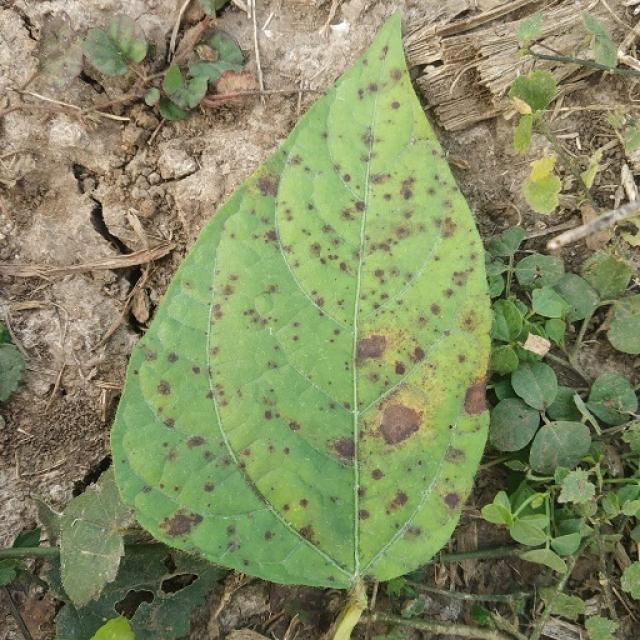Anthracnose: (308, 157, 363, 242), (192, 342, 237, 412), (376, 402, 423, 448), (353, 322, 392, 373), (207, 277, 239, 323), (424, 211, 466, 246), (274, 411, 317, 438), (159, 510, 199, 539), (462, 378, 490, 417), (363, 231, 409, 254), (252, 214, 282, 244), (396, 174, 424, 202), (357, 122, 380, 155), (296, 518, 322, 545), (373, 272, 417, 287), (185, 427, 210, 451), (253, 291, 275, 317), (332, 437, 355, 459), (256, 173, 278, 196), (443, 492, 459, 510), (156, 380, 171, 396), (429, 302, 441, 317), (371, 468, 384, 480), (390, 100, 401, 110)
Blackgram: (111, 12, 489, 639)
